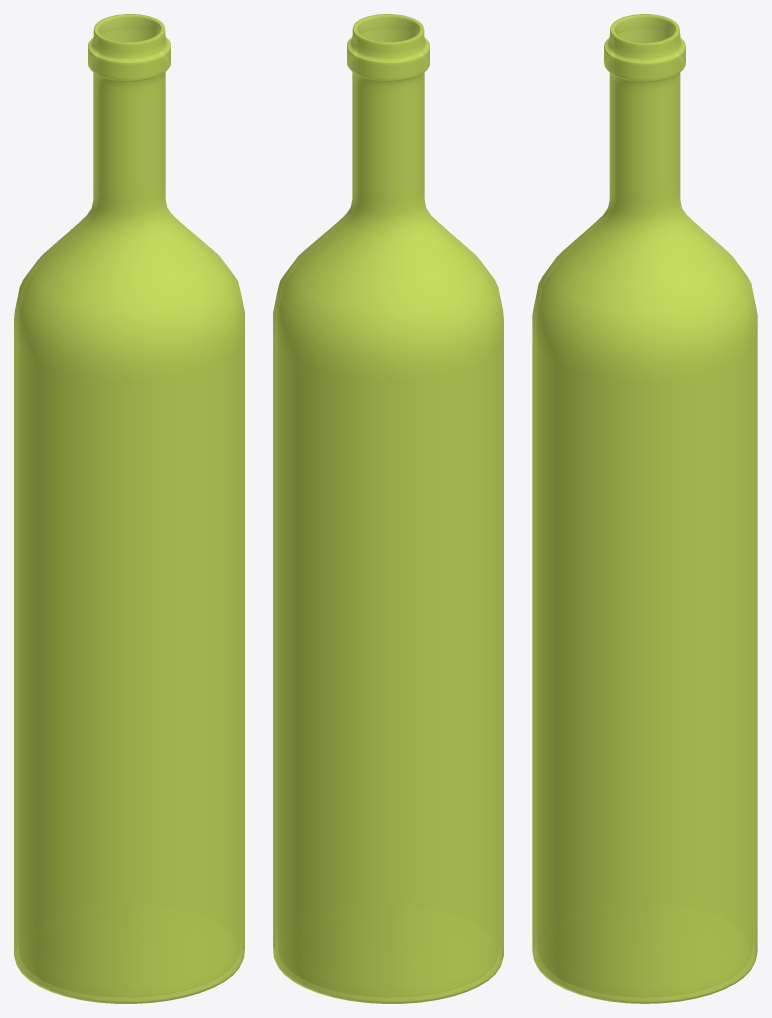
Rendered from GlassBottle.fbx.
The picture shows the model from 3 angles, left to right: view 1: azimuth 30°, elevation 25°; view 2: azimuth 150°, elevation 25°; view 3: azimuth 270°, elevation 25°; orthographic projection.
Parts seen in each view (by area): view 1: pCylinder1; view 2: pCylinder1; view 3: pCylinder1.
Part boxes in pixels (bbox=[...]): pCylinder1: bbox=[14, 14, 244, 1003]; pCylinder1: bbox=[273, 14, 503, 1003]; pCylinder1: bbox=[532, 14, 757, 1003].
Bounding box in the file's own units: 2.07 × 9.1 × 2.
